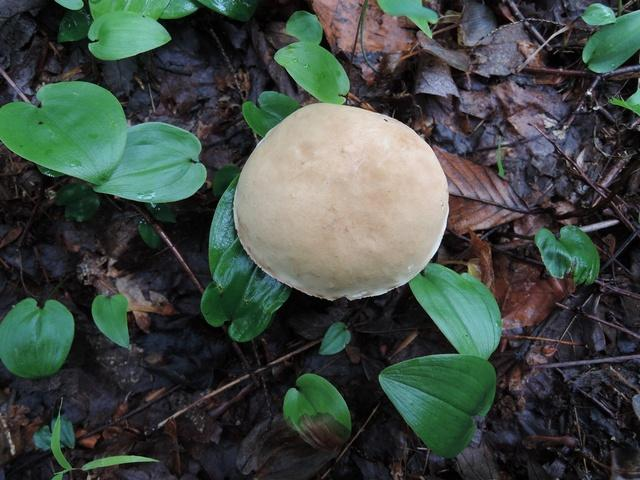Non-edible Mushroom: (230, 101, 450, 302)
